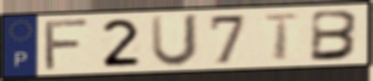2: (99, 17, 144, 68)
7: (207, 14, 249, 66)
B: (308, 9, 363, 64)
F: (42, 17, 94, 73)
T: (261, 12, 304, 62)
U: (148, 12, 202, 70)
